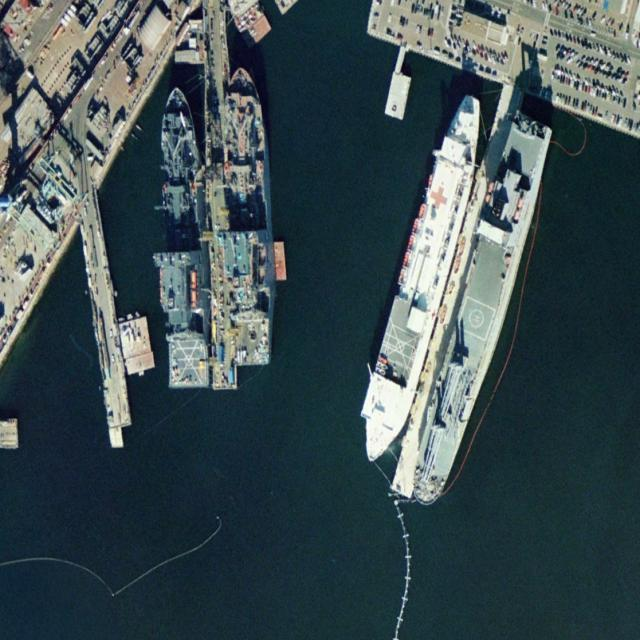Auxiliary Ships: (348, 84, 497, 473)
Commander: (215, 62, 280, 368), (147, 84, 211, 390)
Other Ship: (402, 105, 559, 521)
